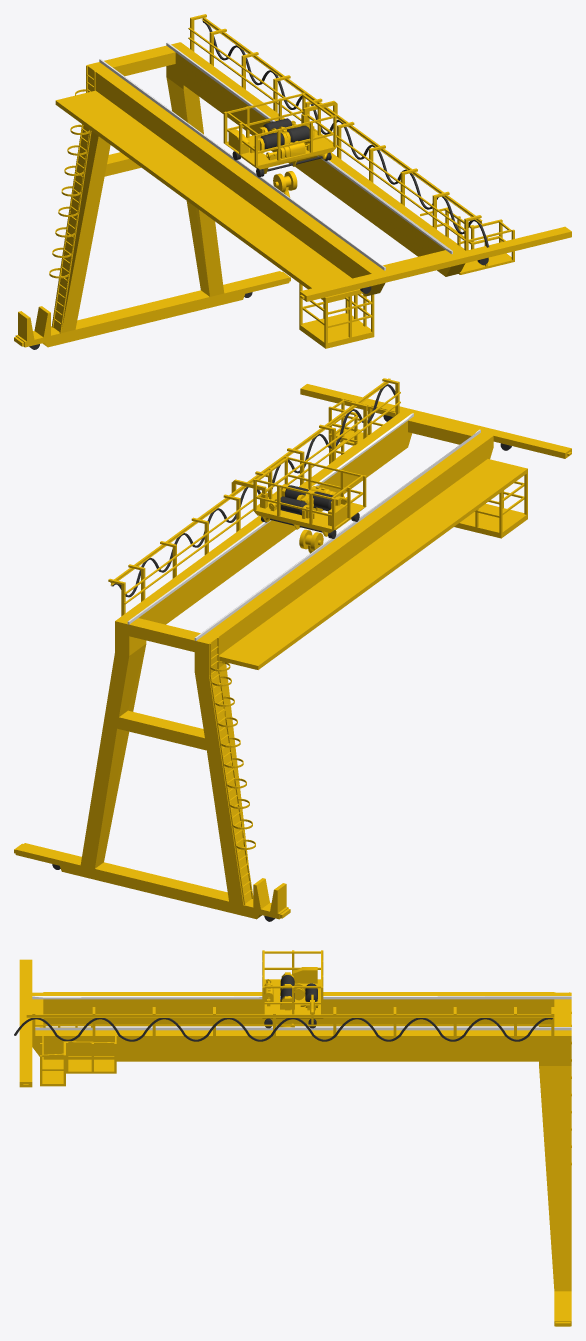
3 renders of one model, top to bottom at view 1: azimuth 30°, elevation 25°; view 2: azimuth 150°, elevation 25°; view 3: azimuth 270°, elevation 25°, orthographic. The views are drawn at different scales.
Visible parts, largest first — view 1: 1_Bay_C_864_Body, 1_Bay_C_864_Head_01, 1_Bay_C_863_Head_Hook_01.001; view 2: 1_Bay_C_864_Body, 1_Bay_C_864_Head_01; view 3: 1_Bay_C_864_Body, 1_Bay_C_864_Head_01.
Boxes of the visible parts, box(x1,y1,x2,y2) form: 1_Bay_C_864_Body: box(14, 14, 571, 349); 1_Bay_C_864_Head_01: box(223, 92, 337, 177); 1_Bay_C_863_Head_Hook_01.001: box(273, 171, 297, 197); 1_Bay_C_864_Body: box(14, 378, 571, 921); 1_Bay_C_864_Head_01: box(231, 456, 366, 538); 1_Bay_C_864_Body: box(14, 959, 571, 1326); 1_Bay_C_864_Head_01: box(262, 950, 323, 1028).
Size of the model in its own units: 9.43 by 10.49 by 17.87.
